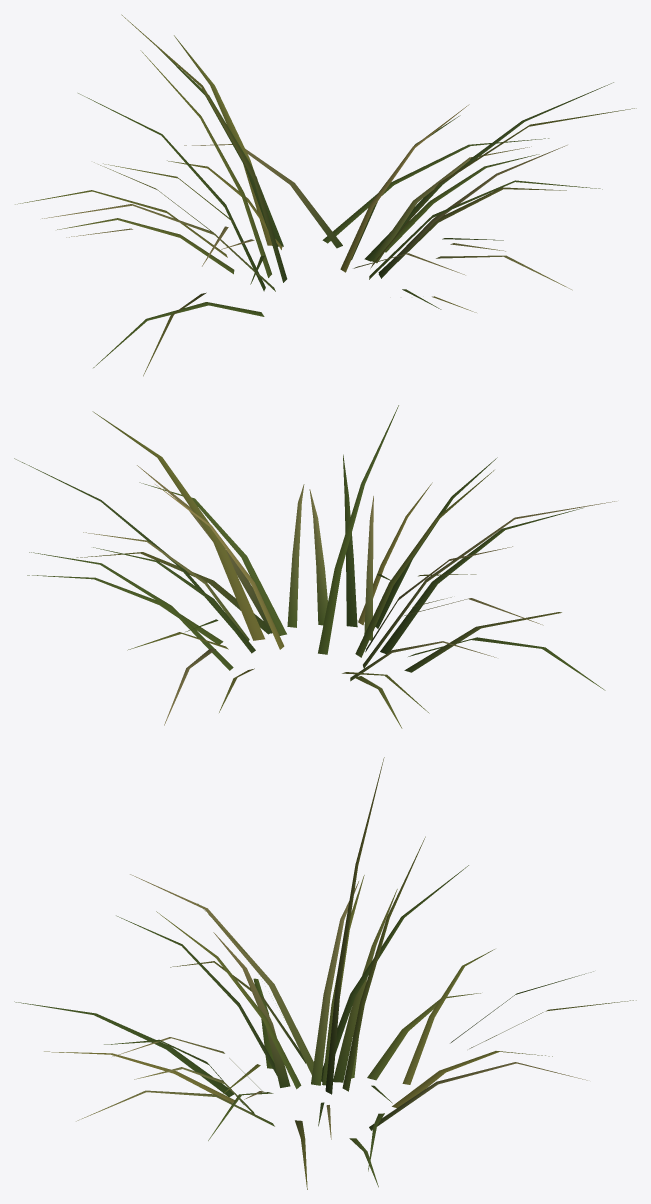
The model's file is far_b.glb.
3 views of the same model, one above another, from view 1: azimuth 30°, elevation 25°; view 2: azimuth 150°, elevation 25°; view 3: azimuth 270°, elevation 25° (orthographic). The views are drawn at different scales.
Visible parts, largest first — view 1: far_b; view 2: far_b; view 3: far_b.
Boxes of the visible parts, bbox=[...] form: far_b: bbox=[15, 14, 636, 376]; far_b: bbox=[14, 405, 616, 728]; far_b: bbox=[14, 757, 636, 1189].
Size of the model in its own units: 0.8946 by 0.427 by 0.8882.
